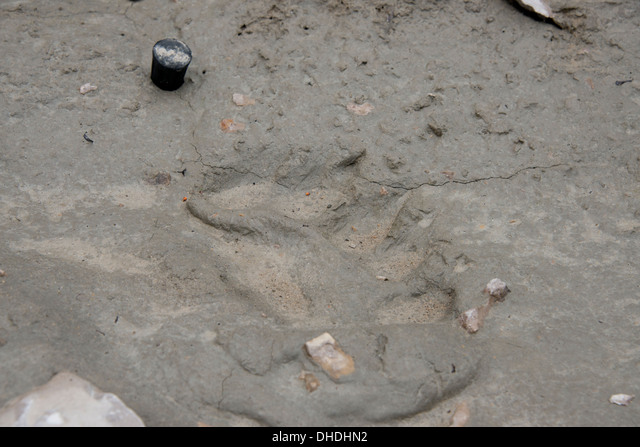bear: (170, 131, 491, 386)
